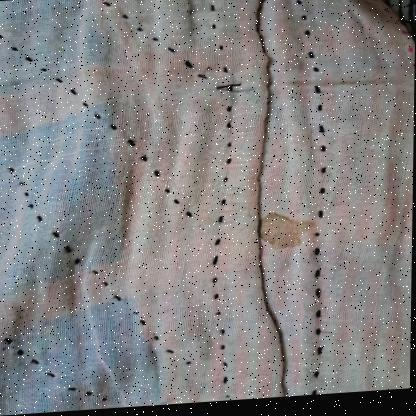spot: (257, 207, 327, 262)
